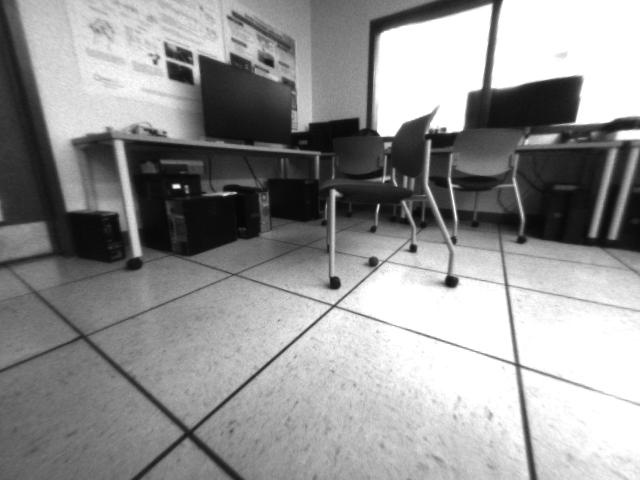dogtoy: (363, 251, 385, 270)
